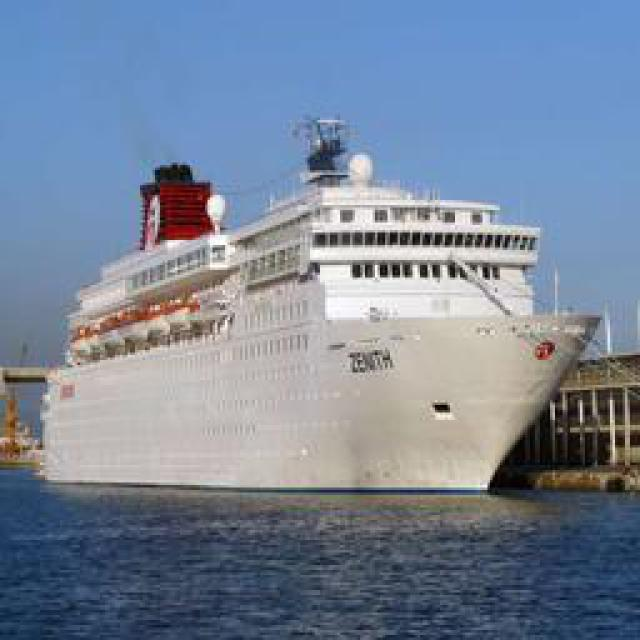Ship: (21, 113, 606, 498)
